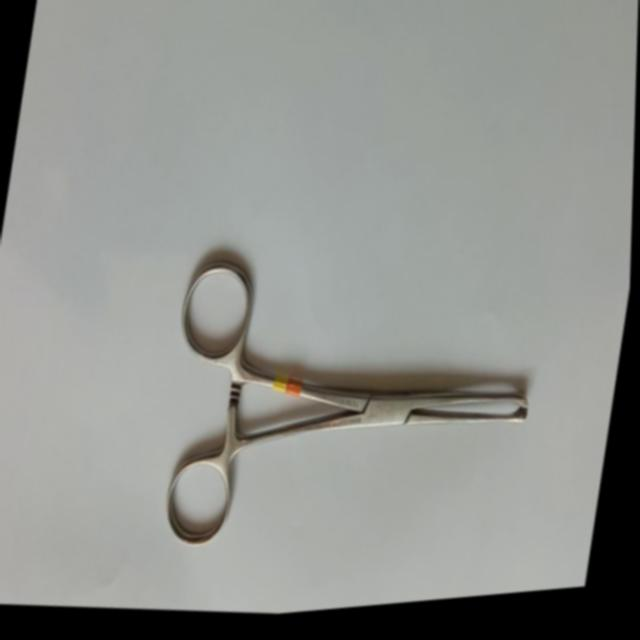AllisForcep: (145, 234, 555, 597)
